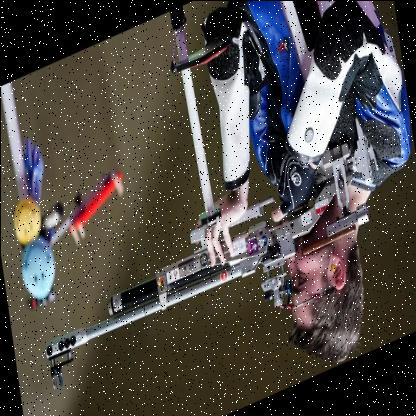rifle: (34, 140, 370, 377)
